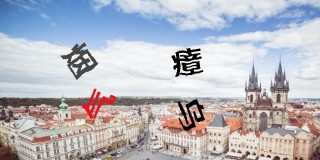乌: (176, 99, 206, 131)
气: (81, 87, 117, 119)
烟: (60, 41, 98, 79)
瘴: (171, 46, 204, 78)
